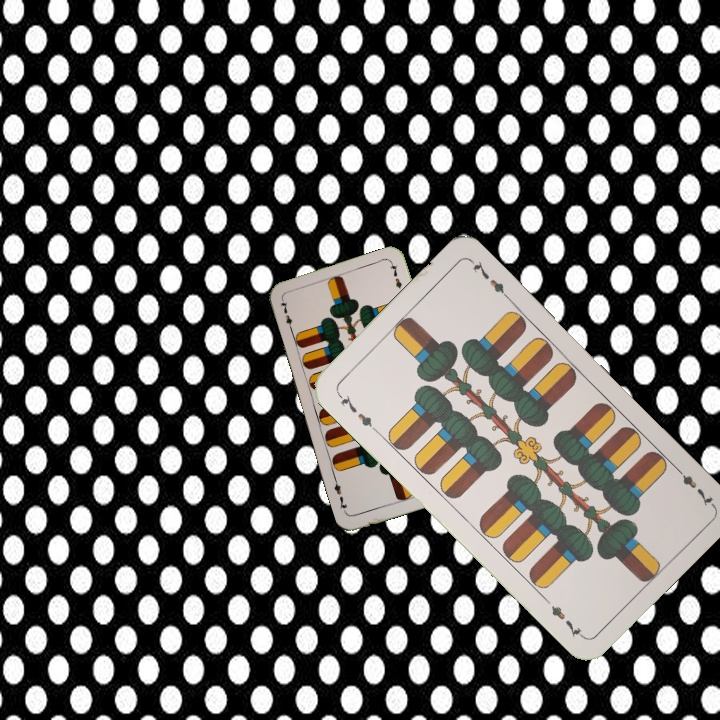E7: (670, 462, 716, 509), (333, 389, 380, 434), (276, 296, 296, 336)
